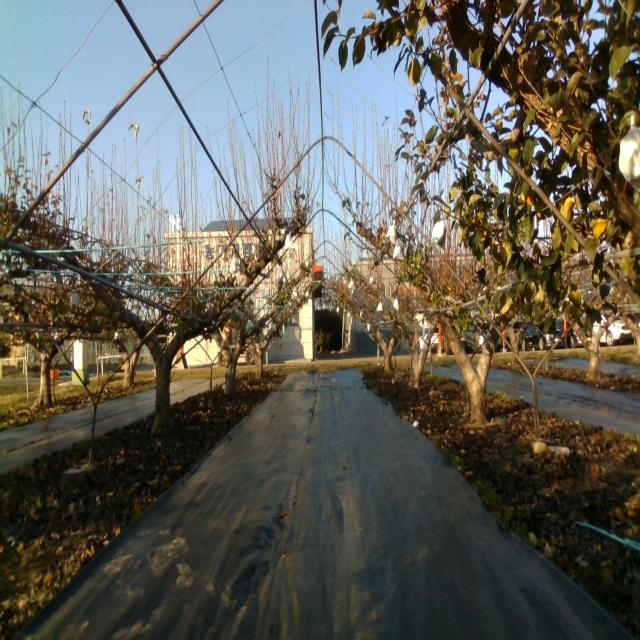pearbags: (618, 123, 640, 183), (431, 218, 446, 248)
